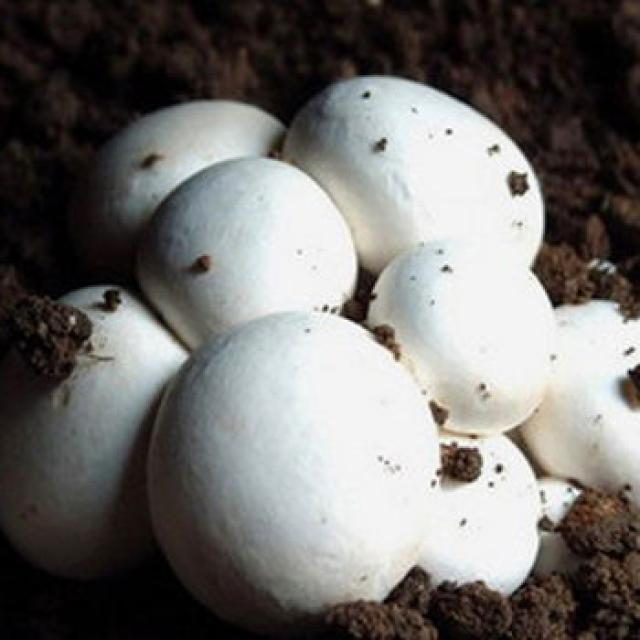Agaricus bisporus: (121, 315, 469, 604), (291, 72, 572, 258), (120, 165, 362, 329), (367, 238, 561, 421)
